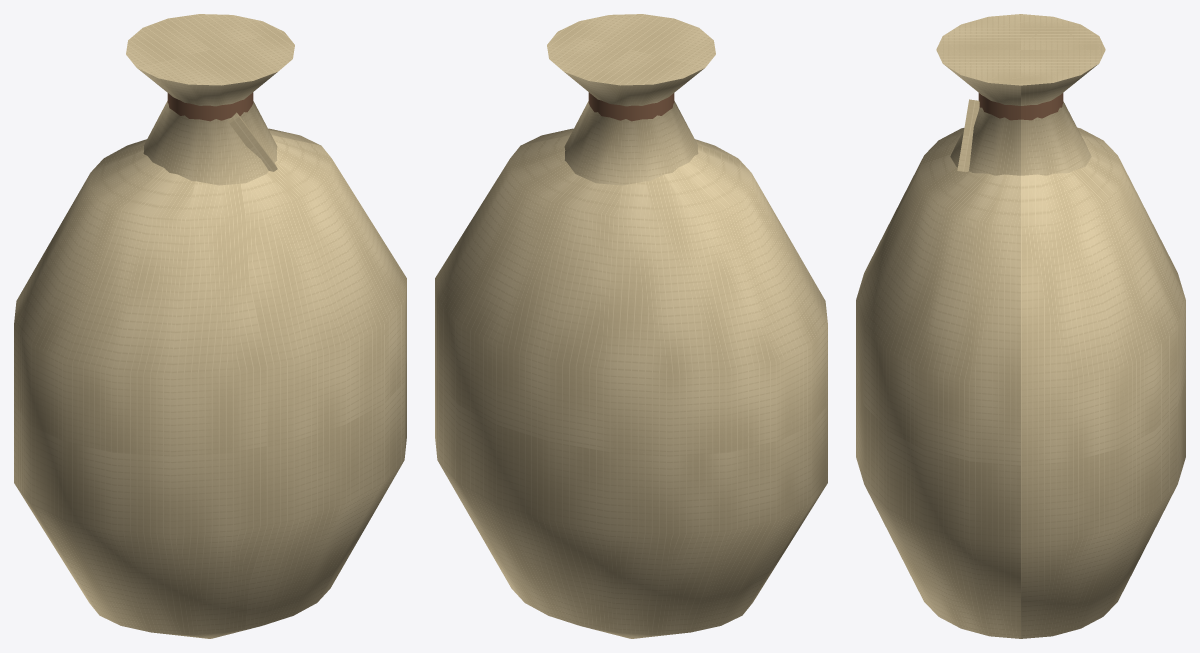
File: Grain_Sack.fbx
3 views of the same model, side by side, from view 1: azimuth 30°, elevation 25°; view 2: azimuth 150°, elevation 25°; view 3: azimuth 270°, elevation 25° (orthographic).
Parts seen in each view (by area): view 1: Linen grain sack, Sack tied mouth, Sack mouth binding, Sack tie ends; view 2: Linen grain sack, Sack tied mouth, Sack mouth binding; view 3: Linen grain sack, Sack tied mouth, Sack mouth binding, Sack tie ends.
Boxes of the visible parts, x1,y1,x2,y2 form: Linen grain sack: [14, 128, 406, 638]; Sack tied mouth: [126, 14, 294, 185]; Sack mouth binding: [167, 92, 253, 121]; Sack tie ends: [228, 112, 277, 171]; Linen grain sack: [435, 128, 827, 638]; Sack tied mouth: [547, 14, 715, 185]; Sack mouth binding: [588, 92, 674, 121]; Linen grain sack: [856, 127, 1185, 638]; Sack tied mouth: [936, 14, 1105, 175]; Sack mouth binding: [978, 93, 1063, 120]; Sack tie ends: [957, 99, 979, 171].
Size of the model in its own units: 87.5 by 137 by 70.
